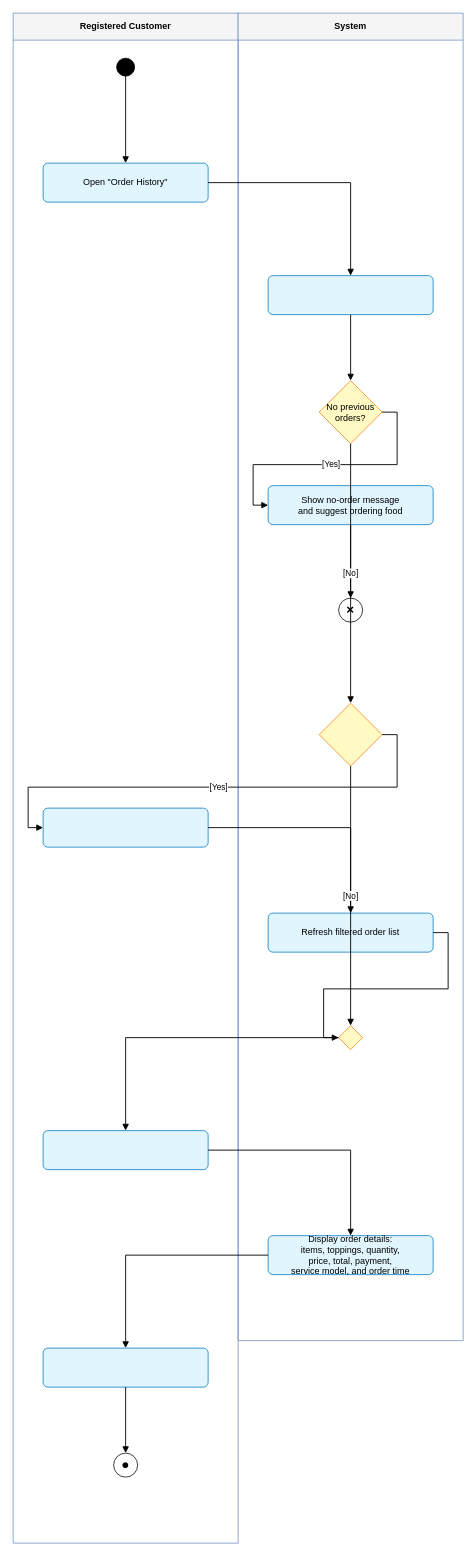
The diagram is 476 pixels wide and 1556 high, and some of its shapes have lost their labels. The centre of each missing label's shape, as x and y in pixels:
Click "Back": (125,1367)
Display order list sorted by newest first: (350,295)
Filter by status?: (350,734)
Select one order: (125,1150)
Select status filter: (125,827)
